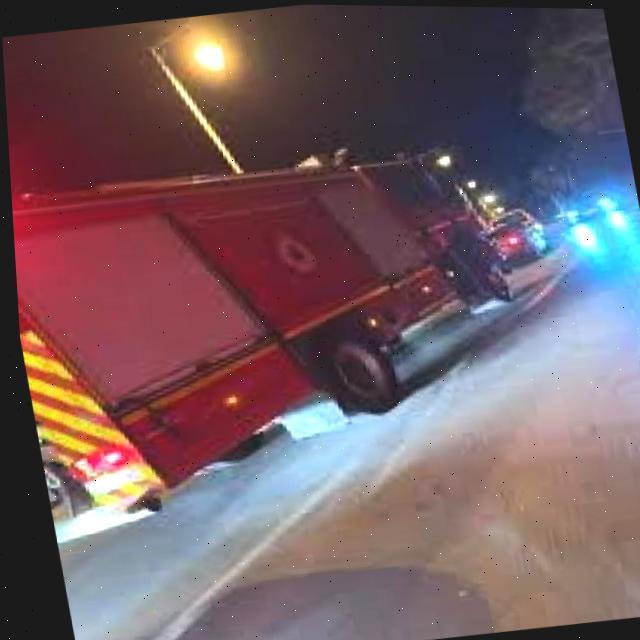emergency: (5, 99, 546, 528)
